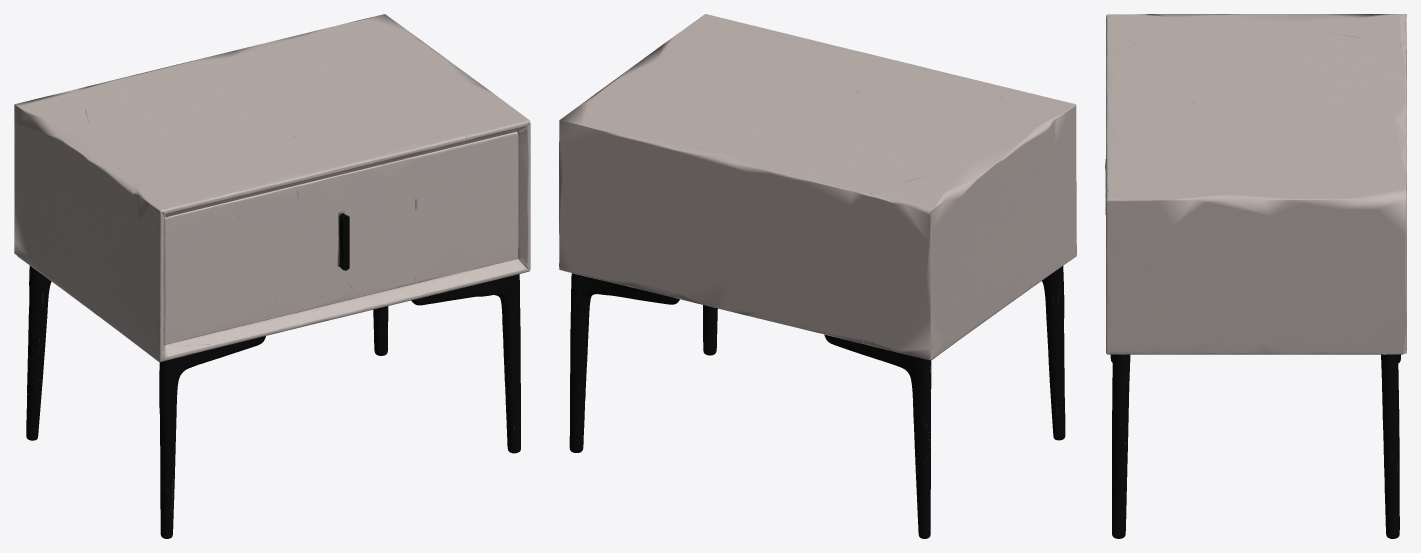
The model's file is meshy-17.glb.
The picture shows the model from 3 angles, left to right: view 1: azimuth 30°, elevation 25°; view 2: azimuth 150°, elevation 25°; view 3: azimuth 270°, elevation 25°; orthographic projection. The views are drawn at different scales.
Parts seen in each view (by area): view 1: RealScale; view 2: RealScale; view 3: RealScale.
Part boxes in pixels (x1,y1,x2,y2): RealScale: (14,14,530,538); RealScale: (559,14,1076,538); RealScale: (1105,14,1406,538).
Size of the model in its own units: 0.6524 by 0.56 by 0.4462.
1 material, 1 textured.
